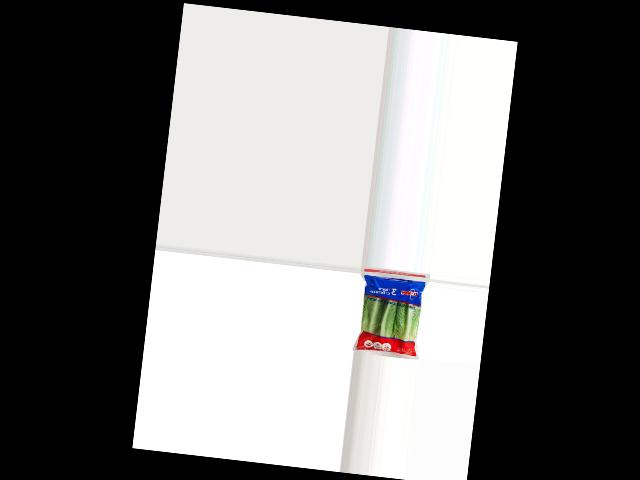lettuce: (354, 271, 429, 359)
